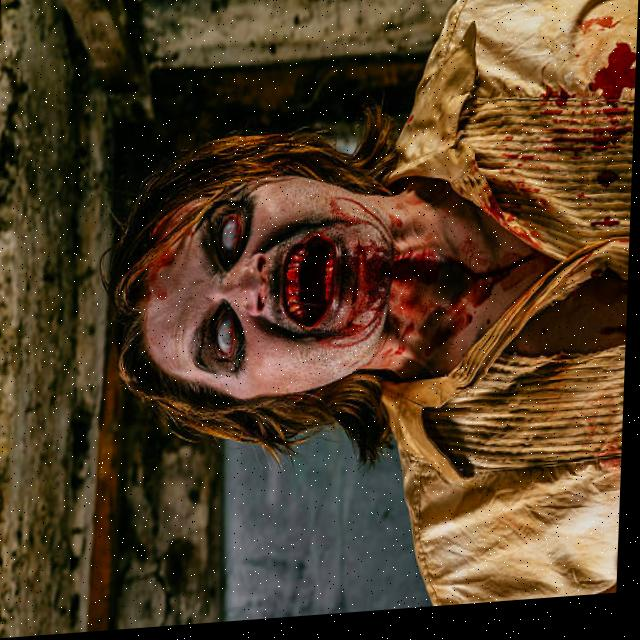Zombie: (112, 157, 385, 428)
